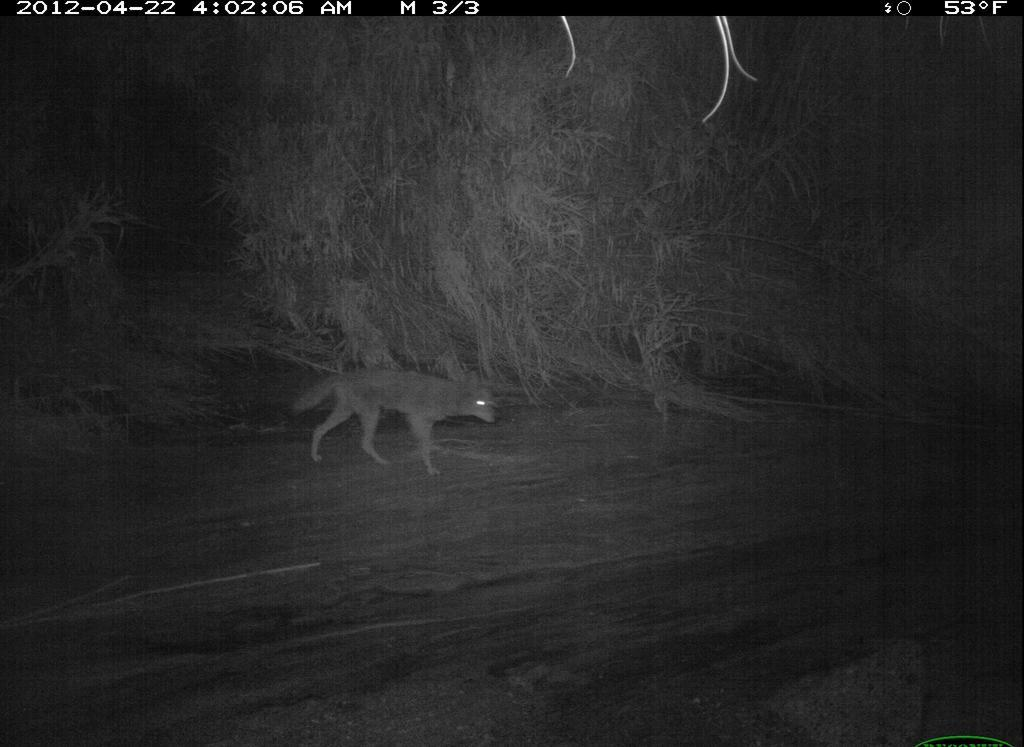coyote: (285, 354, 503, 500)
